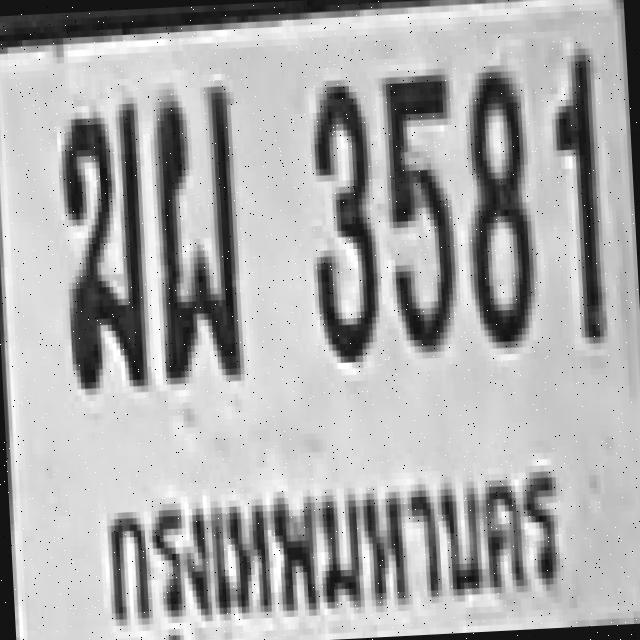1: (548, 48, 604, 345)
15KhorRaKhang: (55, 97, 152, 389)
3: (302, 79, 379, 358)
37PhorPhueng: (148, 83, 245, 382)
5: (379, 68, 462, 354)
8: (461, 64, 535, 343)
Bangkok: (87, 433, 579, 640)
